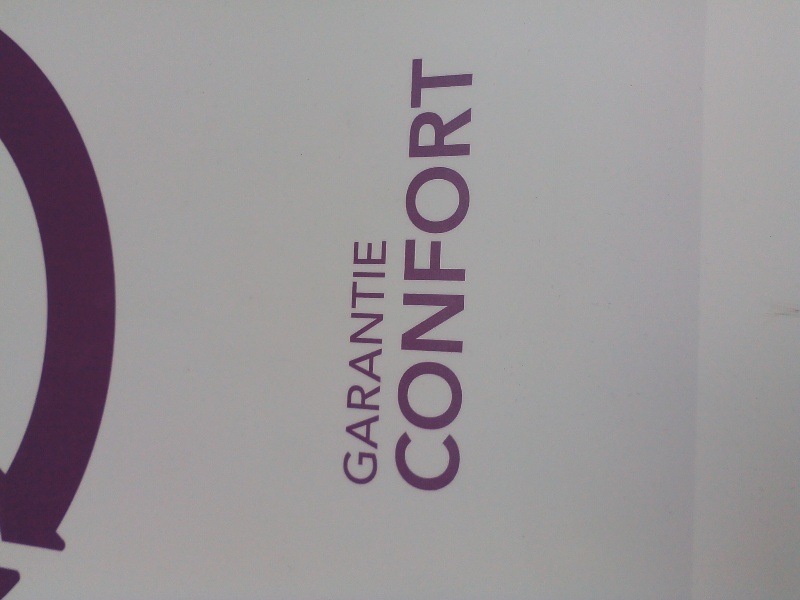text: (417, 56, 432, 494), (433, 56, 448, 494), (449, 56, 464, 494), (465, 56, 476, 494), (353, 242, 368, 486), (369, 242, 384, 486), (413, 56, 416, 494), (385, 242, 387, 486)
